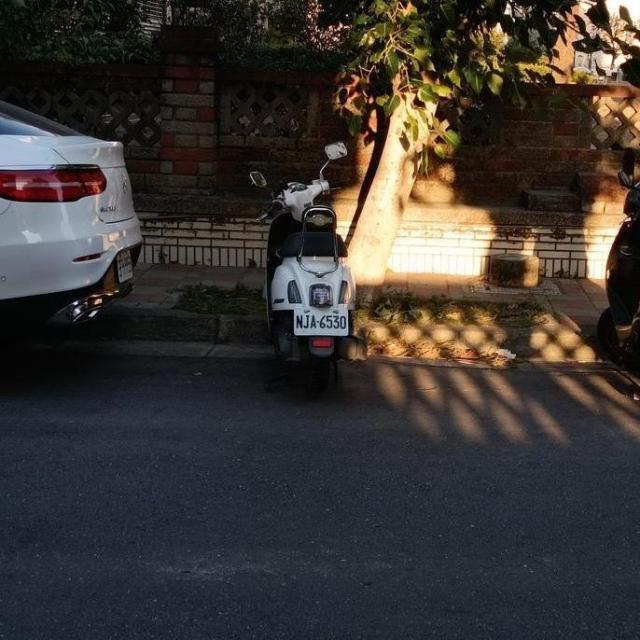W: (288, 299, 353, 338)
